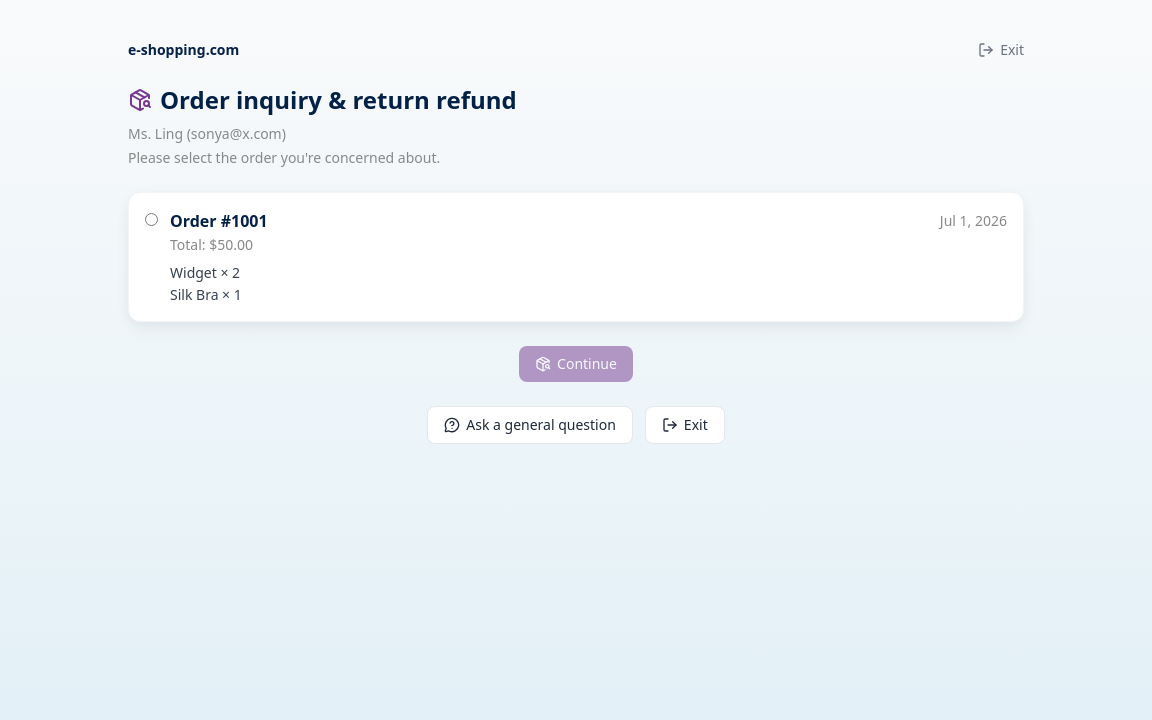
Test: OrderInquiryPage › shows a 'Refundable' column flagging nonrefundable items with their reason
Expected: the text "Order #1001" is shown, [170,209,268,233]
Click the radio button.
click(152, 220)  # box [145,213,158,226]
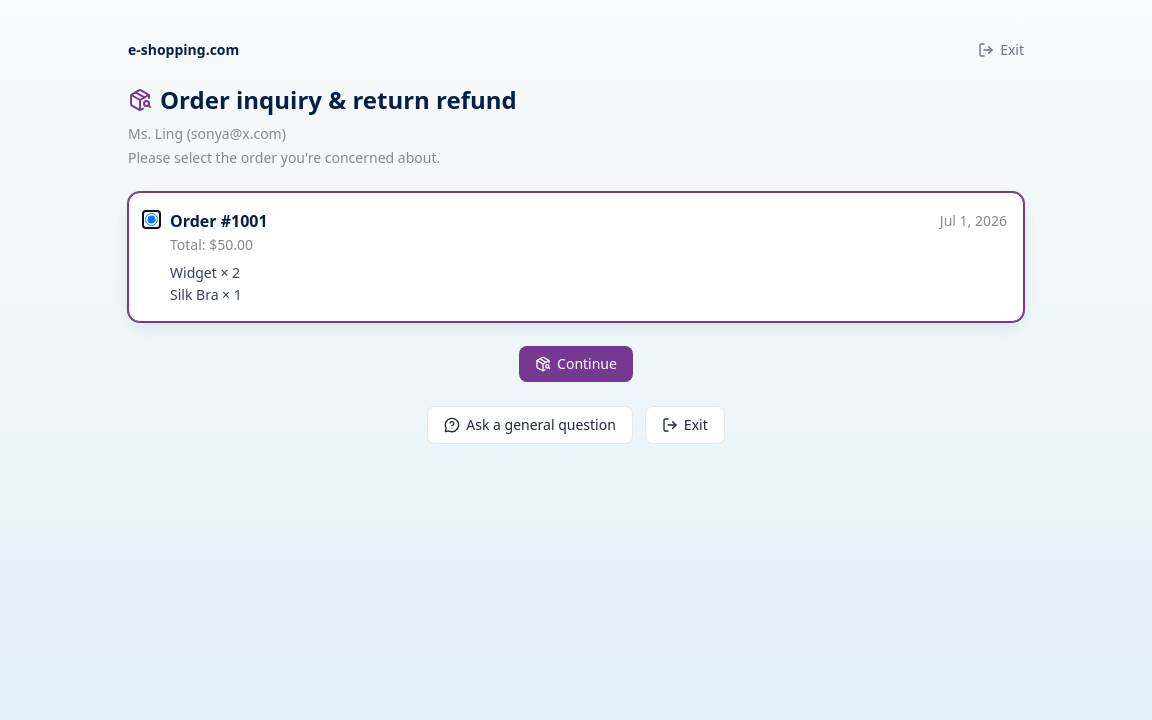
Click the button "Continue".
click(576, 364)  # box [519,346,633,382]
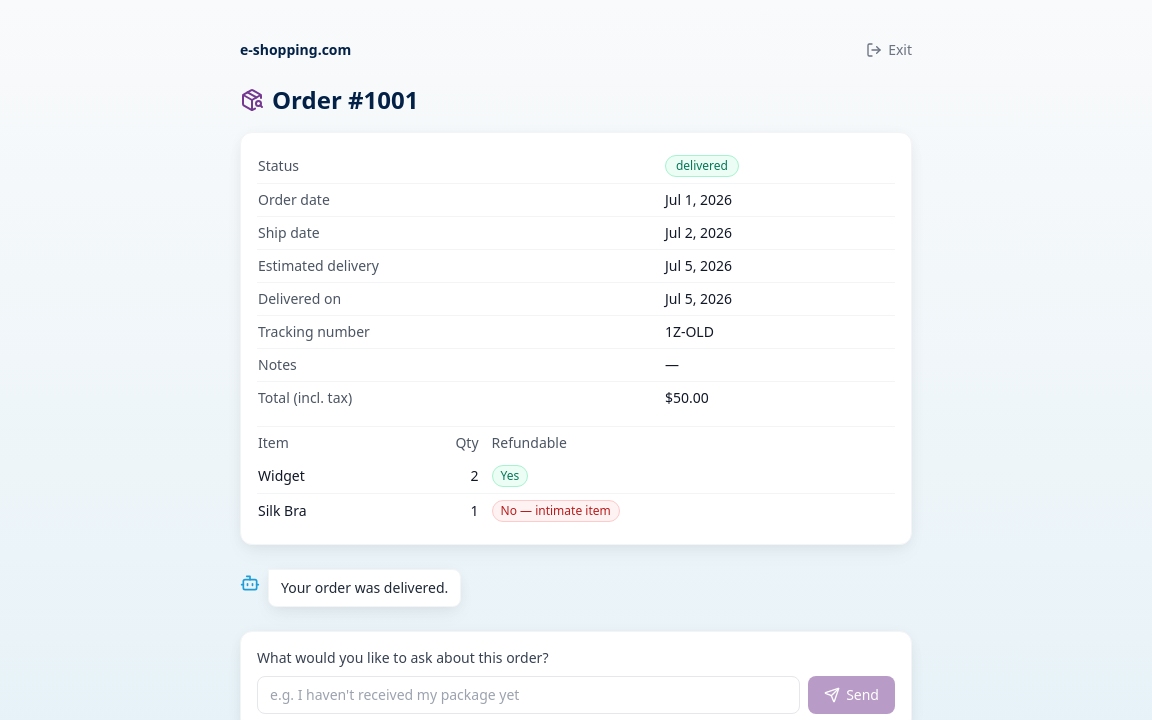
Expected: the text "Your order was delivered." is shown, [268,569,461,607]
Expected: the text "Yes" is shown, [492,465,528,487]
Expected: the text "No — intimate item" is shown, [492,500,620,522]
